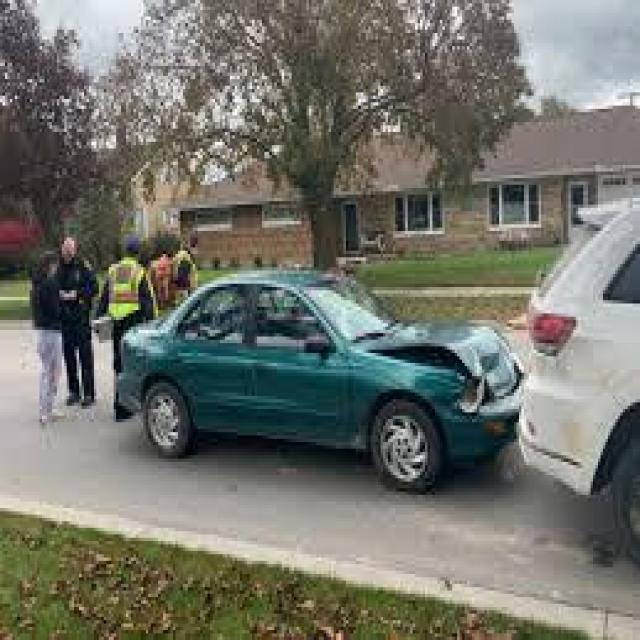damaged: (376, 330, 526, 422)
